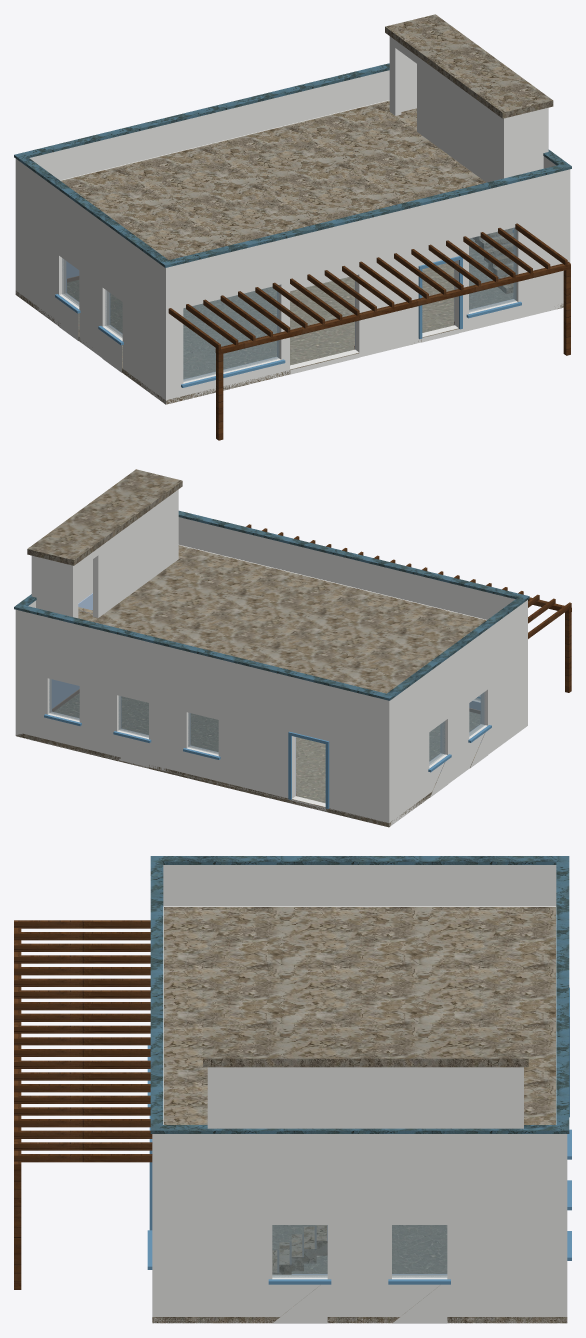
Rendered from bay-beach-club.zfix-v7.lod0.glb.
3 views of the same model, one above another, from view 1: azimuth 30°, elevation 25°; view 2: azimuth 150°, elevation 25°; view 3: azimuth 270°, elevation 25° (orthographic). The views are drawn at different scales.
Visible parts, largest first — view 1: bay-beach-club; view 2: bay-beach-club; view 3: bay-beach-club.
Boxes of the visible parts, x1,y1,x2,y2 form: bay-beach-club: [14, 14, 571, 440]; bay-beach-club: [14, 469, 571, 827]; bay-beach-club: [14, 856, 571, 1323].
Size of the model in its own units: 14.2 by 6.37 by 12.1.
5 materials, 3 textured.
